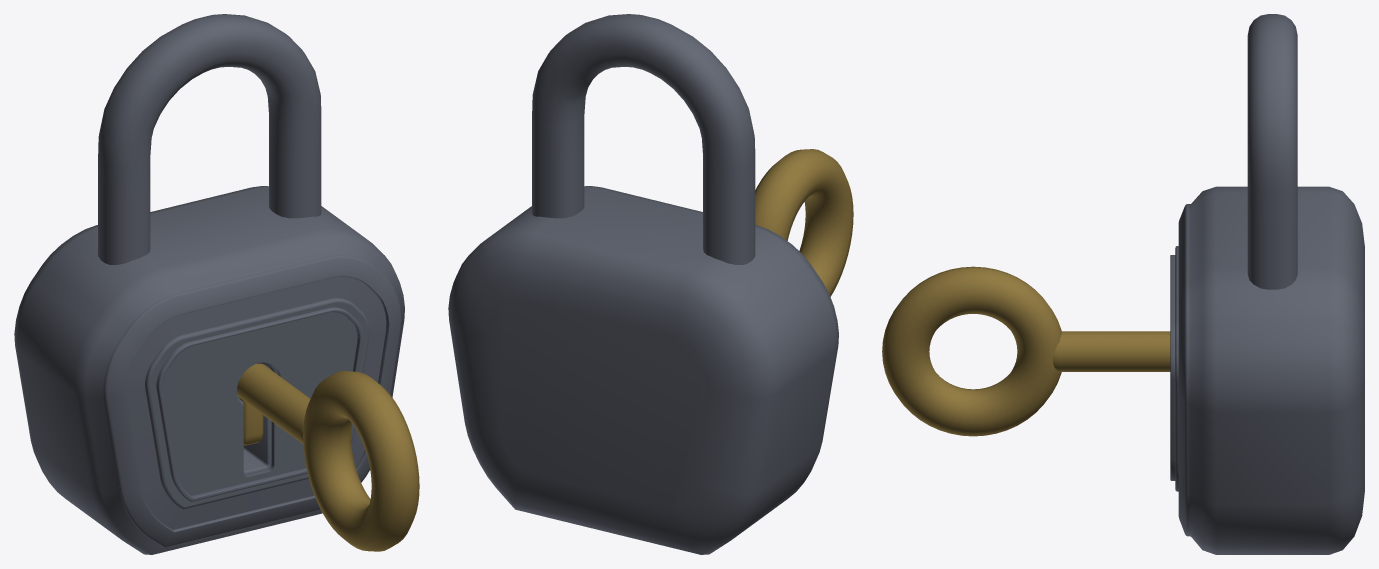
Rendered from unlock.fbx.
The picture shows the model from 3 angles, left to right: view 1: azimuth 30°, elevation 25°; view 2: azimuth 150°, elevation 25°; view 3: azimuth 270°, elevation 25°; orthographic projection.
Parts seen in each view (by area): view 1: Cube, Circle, Torus.001; view 2: Cube, Circle, Torus.001; view 3: Cube, Torus.001, Circle.
Part boxes in pixels (box(x1,y1,x2,y2)): Cube: box(14, 186, 404, 554); Circle: box(98, 14, 321, 264); Torus.001: box(237, 363, 419, 551); Cube: box(448, 186, 838, 554); Circle: box(532, 14, 755, 264); Torus.001: box(755, 149, 853, 296); Cube: box(1170, 186, 1364, 554); Torus.001: box(882, 266, 1170, 436); Circle: box(1247, 14, 1297, 289).
Bounding box in the file's own units: 364 × 521 × 471.
